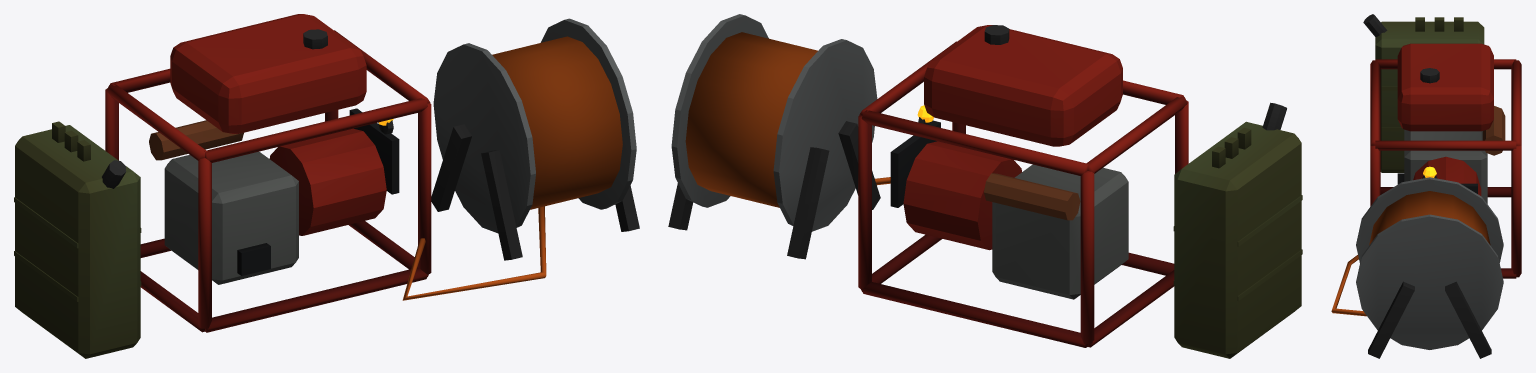
Rendered from pike_generator.glb.
3 views of the same model, side by side, from view 1: azimuth 30°, elevation 25°; view 2: azimuth 150°, elevation 25°; view 3: azimuth 270°, elevation 25° (orthographic). The views are drawn at different scales.
Parts seen in each view (by area): view 1: generator_LOD0, generator_reel_LOD0, generator_fuel_can_LOD0; view 2: generator_LOD0, generator_reel_LOD0, generator_fuel_can_LOD0; view 3: generator_reel_LOD0, generator_LOD0, generator_fuel_can_LOD0.
Boxes of the visible parts, x1,y1,x2,y2 form: generator_LOD0: (105, 14, 431, 332); generator_reel_LOD0: (402, 18, 639, 300); generator_fuel_can_LOD0: (14, 121, 141, 358); generator_LOD0: (858, 25, 1188, 347); generator_reel_LOD0: (668, 14, 890, 259); generator_fuel_can_LOD0: (1173, 102, 1302, 358); generator_reel_LOD0: (1331, 177, 1503, 358); generator_LOD0: (1370, 43, 1521, 278); generator_fuel_can_LOD0: (1363, 14, 1484, 172).
Size of what is drawn, in the model's own units: 1.51 by 0.6263 by 0.5931.
